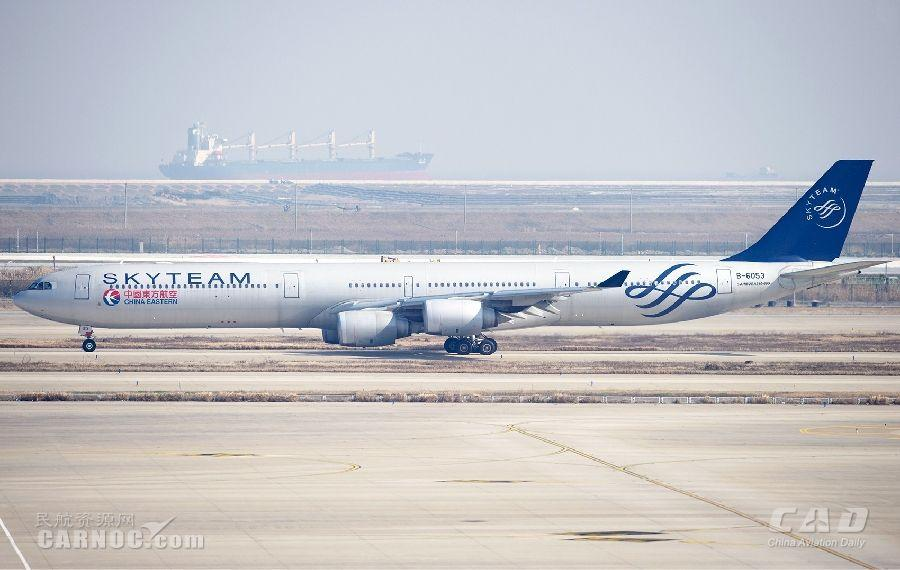airplane: (11, 152, 895, 363)
